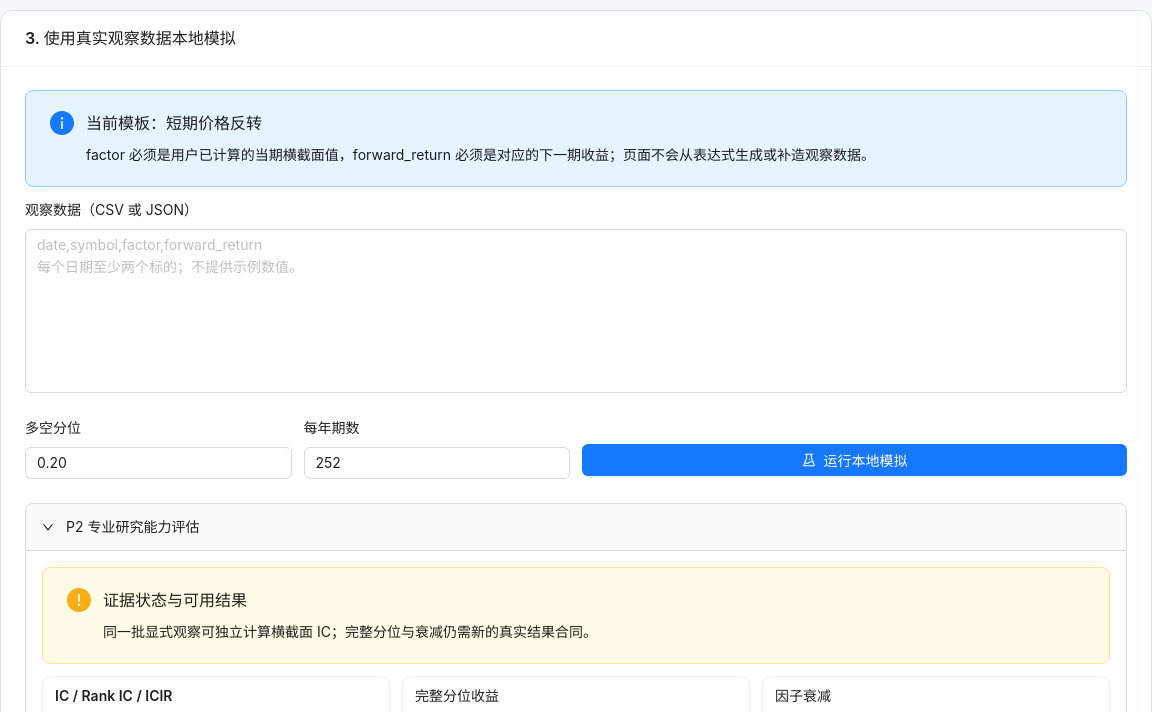
Test: AlphaSimulationWorkbench › renders the performance summary card with annualized statistics
Type "date,symbol,factor,forward_return 2026-01-02,A,1,-0.02 2026-01-02,B,2,0.02 2026-01-05,A,1,-0.01 2026-01-05,B,2,0.03 2026-01-06,A,1,-0.01 2026-01-06,B,2,0.01" into the text box named "观察数据".
click(576, 311); type("date,symbol,factor,forward_return 2026-01-02,A,1,-0.02 2026-01-02,B,2,0.02 2026-01-05,A,1,-0.01 2026-01-05,B,2,0.03 2026-01-06,A,1,-0.01 2026-01-06,B,2,0.01")  # box [25,229,1127,393]
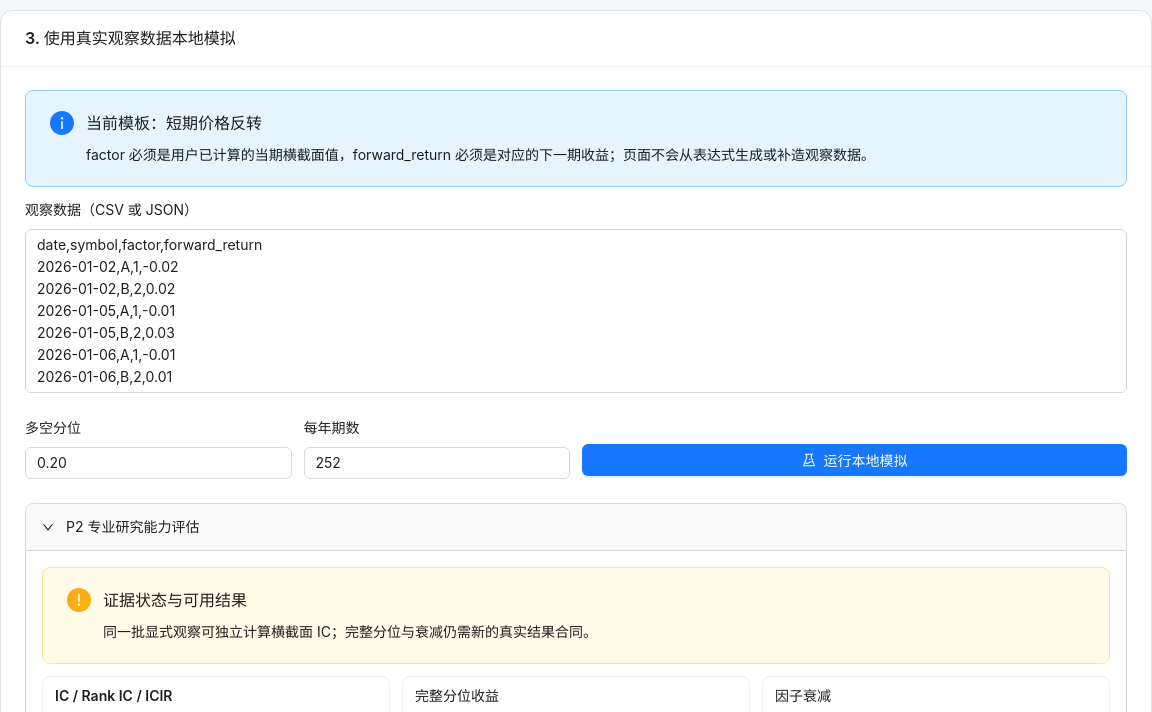
Click the button "运行本地模拟".
click(854, 460)  # box [582,444,1127,476]
(page scrolled)
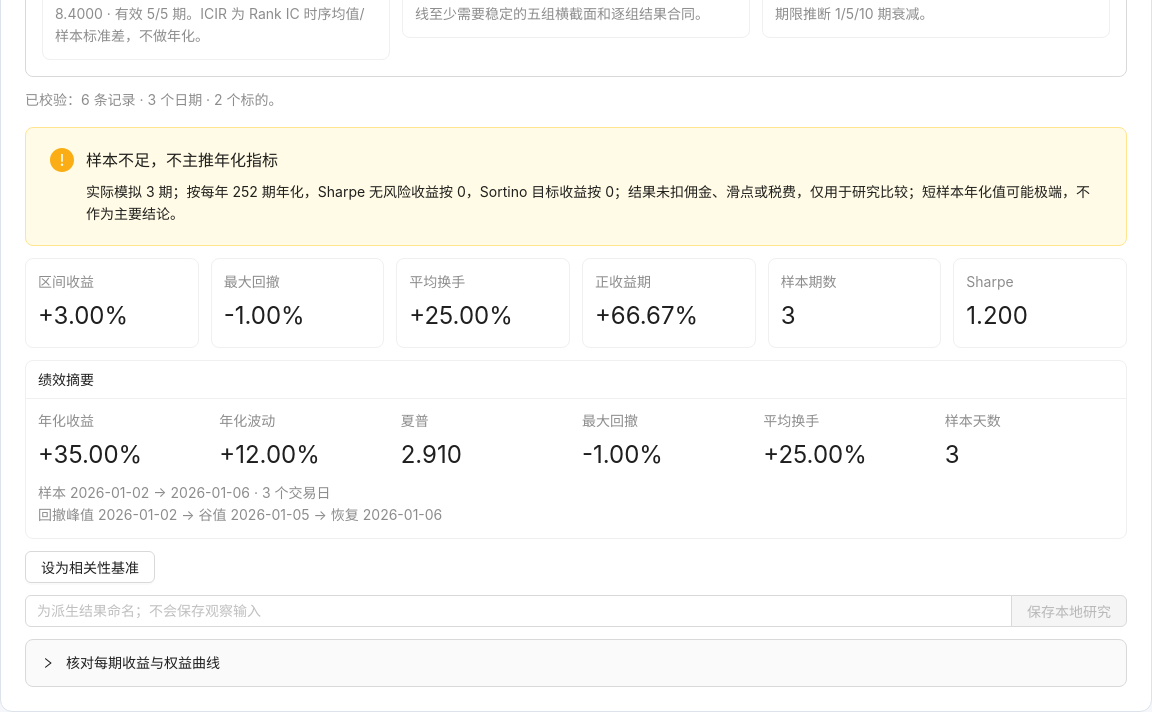
Result: the element with test id "alpha-performance-summary" shows "年化收益" at [38,412,94,429]
Result: the element with test id "alpha-performance-summary" shows "+35.00%" at [38,440,142,469]
Result: the element with test id "alpha-performance-summary" shows "2.910" at [25,360,1127,539]
